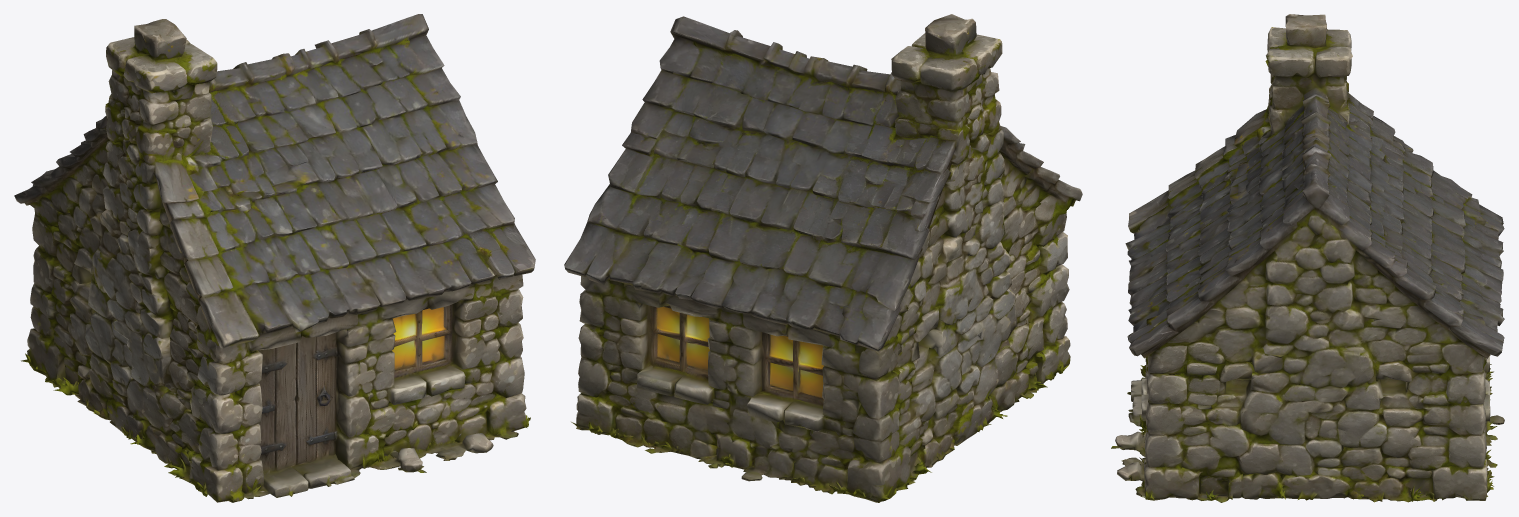
The model's file is moor_cottage_tripo.glb.
The picture shows the model from 3 angles, left to right: view 1: azimuth 30°, elevation 25°; view 2: azimuth 150°, elevation 25°; view 3: azimuth 270°, elevation 25°; orthographic projection. The views are drawn at different scales.
Visible parts, largest first — view 1: tripo_node_1556ff14-36c4-4dbf-a205-e1d81b220f7b; view 2: tripo_node_1556ff14-36c4-4dbf-a205-e1d81b220f7b; view 3: tripo_node_1556ff14-36c4-4dbf-a205-e1d81b220f7b.
Part boxes in pixels (x1,y1,x2,y2): tripo_node_1556ff14-36c4-4dbf-a205-e1d81b220f7b: (14, 14, 535, 502); tripo_node_1556ff14-36c4-4dbf-a205-e1d81b220f7b: (564, 14, 1082, 502); tripo_node_1556ff14-36c4-4dbf-a205-e1d81b220f7b: (1111, 14, 1504, 502).
Size of the model in its own units: 0.8681 by 1 by 0.9886.
1 material, 1 textured.
